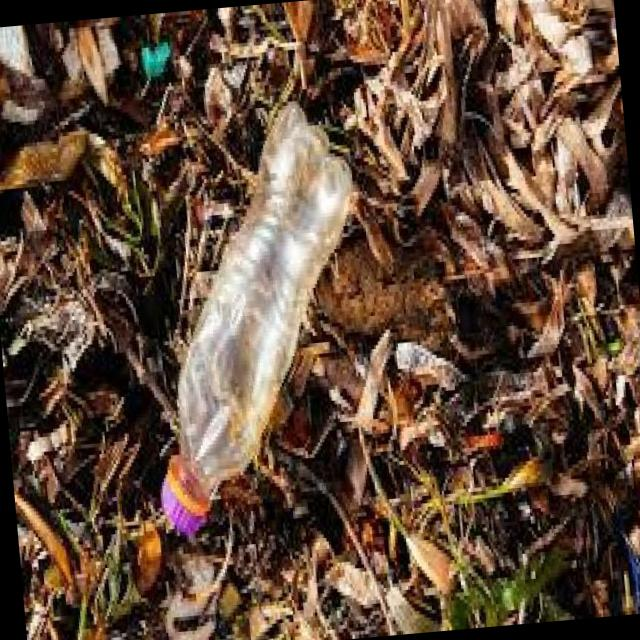plastic_bottle: (128, 95, 384, 538)
